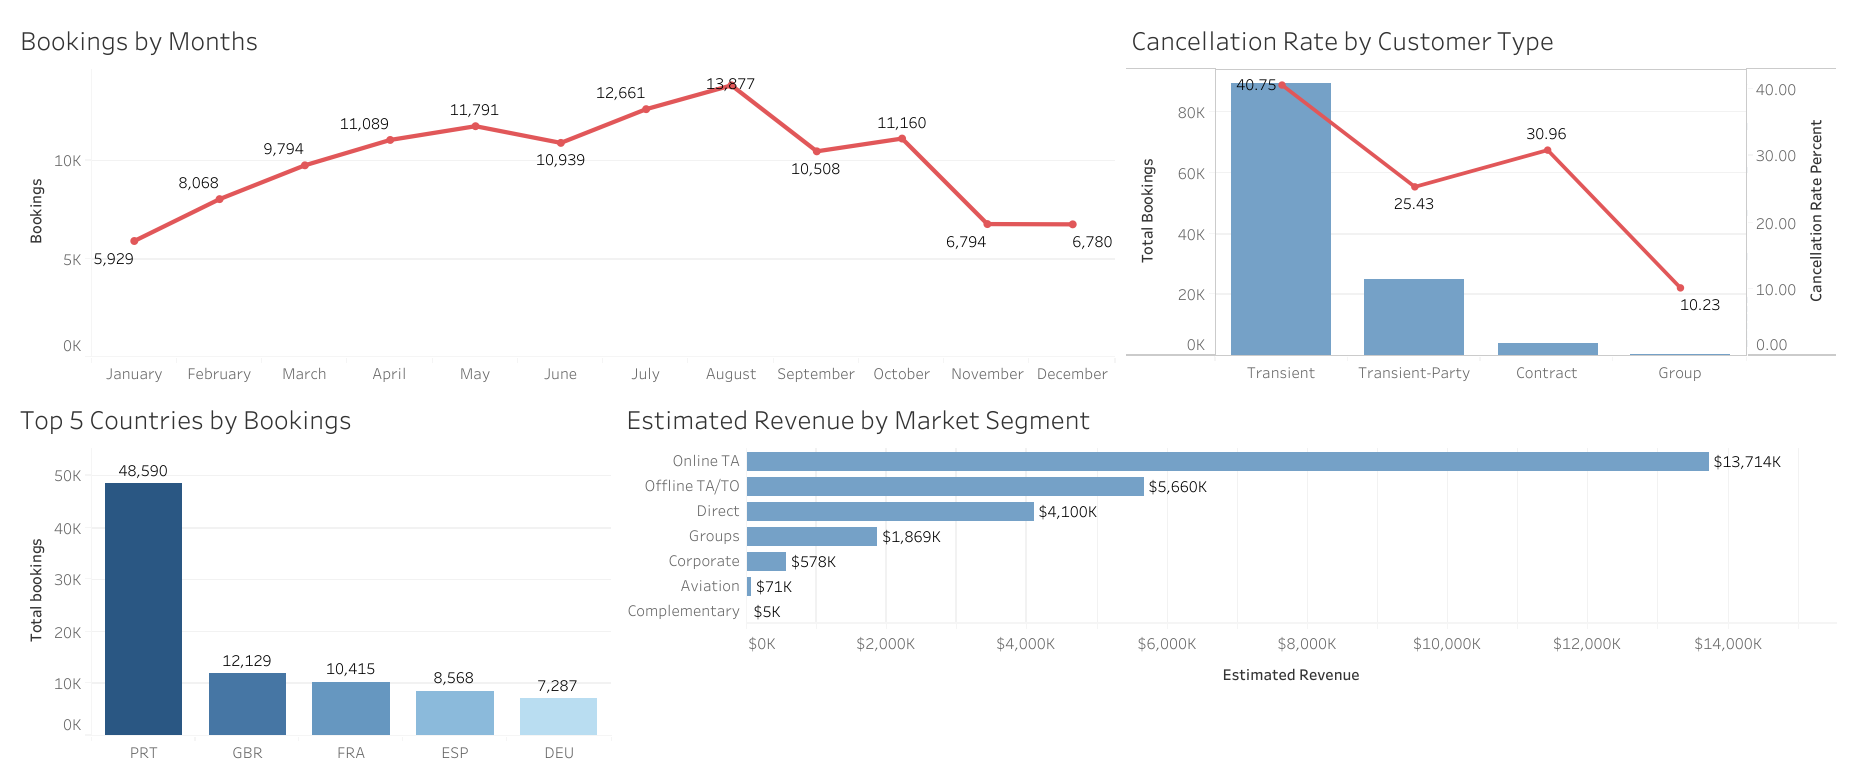

What the dashboard file says about the page in this screenshot:
{"tool":"tableau","page":{"name":"Dashboard 1","canvas":[1000,1000],"units":"permille","ordinal":0},"visuals":[{"type":"worksheet","title":"MonthlyBookings","mark":"Line","rows":["bookings"],"cols":["month_name"],"box":[6.1,13.8,599.4,486.2]},{"type":"worksheet","title":"CancelRate","mark":"Automatic","rows":["total_bookings","cancel_rate_percent"],"cols":["customer_type"],"box":[605.5,13.8,388.4,486.2]},{"type":"worksheet","title":"Top5Countries","mark":"Automatic","rows":["totalbookings"],"cols":["country"],"box":[6.1,500,326.7,486.2]},{"type":"worksheet","title":"RevenuebyMarket","mark":"Bar","rows":["market_segment"],"cols":["estimated_revenue "],"box":[332.8,500,661.1,486.2]}]}

Visuals, with their boxes on the dashboard's canvas, which has no fixed pixel size, in thousandths of its width and height (x1, y1, x2, y2). These are canvas units, not pixel positions in the 1850x776 screenshot, which may show the page scaled, cropped or inside an application window:
"MonthlyBookings" worksheet (Line marks): box=[6, 14, 606, 500]
"CancelRate" worksheet: box=[606, 14, 994, 500]
"Top5Countries" worksheet: box=[6, 500, 333, 986]
"RevenuebyMarket" worksheet (Bar marks): box=[333, 500, 994, 986]
